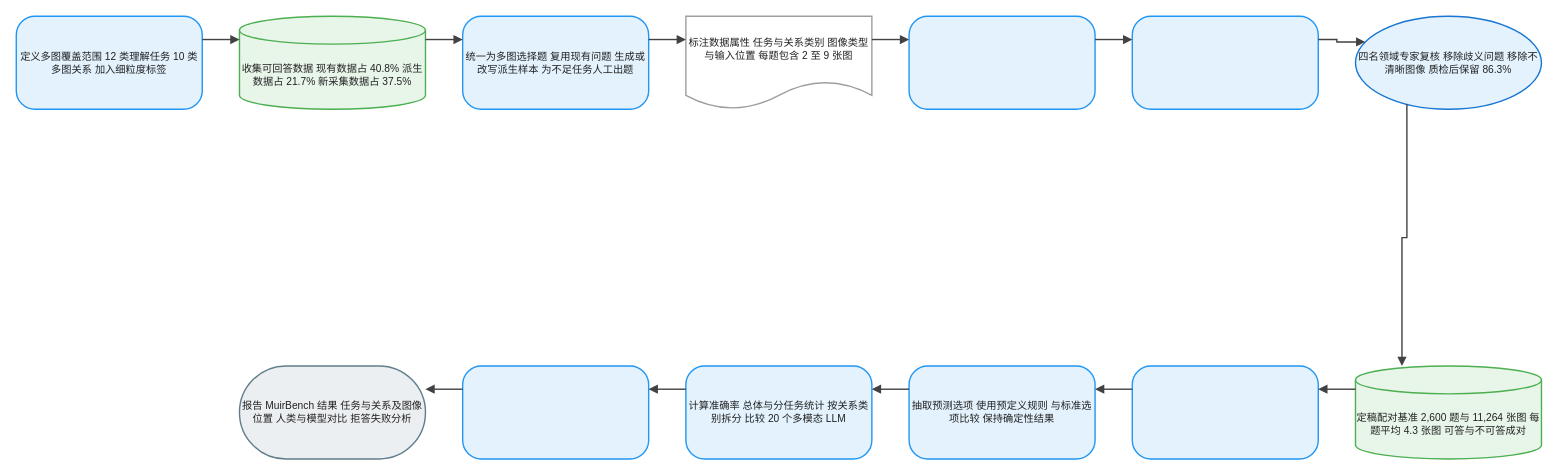
This 1559x476 diagram has some shape labels left out. Here are the shapes that lost their labels. From the top down, the centre of each, then its label:
At point (1001, 62): "创建不可回答配对 替换或重排图像占 24.2% 修改问题占 35.3% 替换选项占 40.5%".
At point (1225, 62): "执行自动质量检查 验证格式与答案 核验元数据和图像指代 检查图像可访问性".
At point (555, 412): "分析配对鲁棒性 可回答样本准确率 不可回答样本准确率 衡量两者性能差距".
At point (1225, 412): "配置模型评测 遵循 VLMEvalKit 温度 0 与重试 10 次 单图模型先拼接多图".
